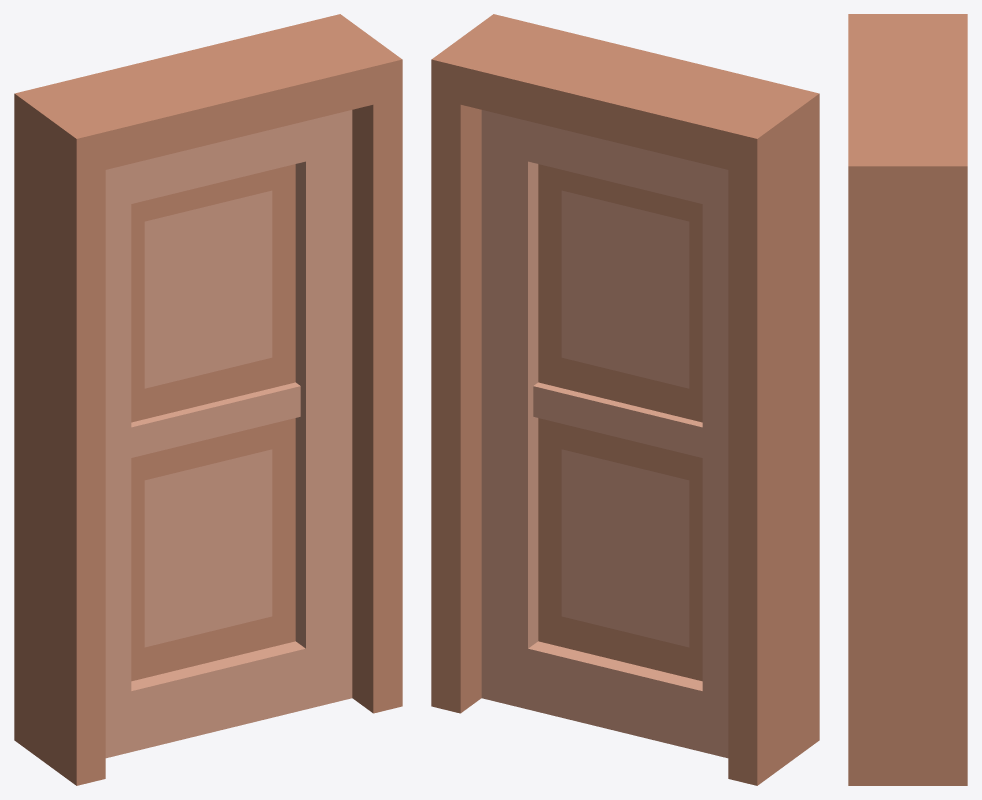
Rendered from Door.fbx.
The picture shows the model from 3 angles, left to right: view 1: azimuth 30°, elevation 25°; view 2: azimuth 150°, elevation 25°; view 3: azimuth 270°, elevation 25°; orthographic projection. The views are drawn at different scales.
Parts seen in each view (by area): view 1: doorway_doorSolid; view 2: doorway_doorSolid; view 3: doorway_doorSolid.
Boxes of the visible parts, left/top/right/bottom form: doorway_doorSolid: left=14, top=14, right=402, bottom=785; doorway_doorSolid: left=431, top=14, right=819, bottom=785; doorway_doorSolid: left=848, top=14, right=967, bottom=785.
Bounding box in the file's own units: 112 × 213 × 37.
